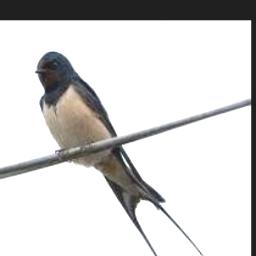Swallow: (34, 51, 204, 256)
